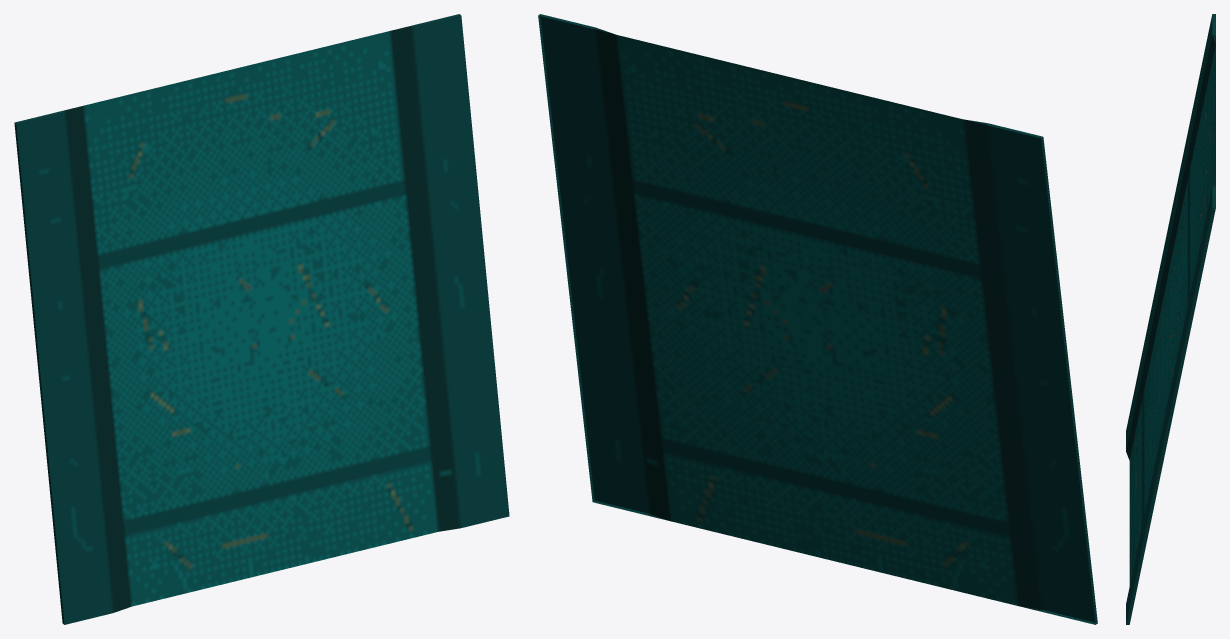
Rendered from med1_9d_ofs48_90.fbx.
3 renders of one model, left to right at view 1: azimuth 30°, elevation 25°; view 2: azimuth 150°, elevation 25°; view 3: azimuth 270°, elevation 25°, orthographic. The views are drawn at different scales.
Parts seen in each view (by area): view 1: med1_9d_mesh_ofs48_90; view 2: med1_9d_mesh_ofs48_90; view 3: med1_9d_mesh_ofs48_90.
Part boxes in pixels (x1,y1,x2,y2): med1_9d_mesh_ofs48_90: (14, 14, 509, 624); med1_9d_mesh_ofs48_90: (538, 14, 1097, 624); med1_9d_mesh_ofs48_90: (1126, 14, 1215, 624).
Size of the model in its own units: 256 by 256 by 50.
